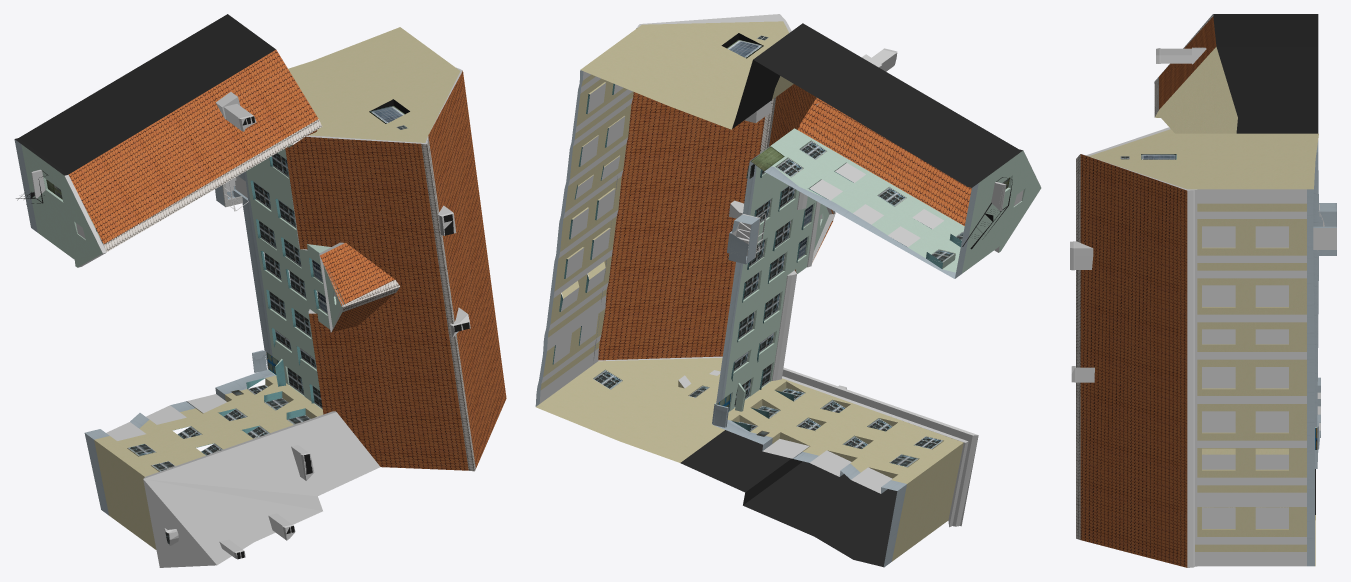
The model's file is Kiriku-4-origo.obj.
The picture shows the model from 3 angles, left to right: view 1: azimuth 30°, elevation 25°; view 2: azimuth 150°, elevation 25°; view 3: azimuth 270°, elevation 25°; orthographic projection. The views are drawn at different scales.
Parts seen in each view (by area): view 1: Kiriku_4; view 2: Kiriku_4; view 3: Kiriku_4.
Part boxes in pixels (x1=…): Kiriku_4: x1=14, y1=14, x2=506, y2=567; Kiriku_4: x1=535, y1=14, x2=1041, y2=567; Kiriku_4: x1=1070, y1=14, x2=1336, y2=567.
Size of the model in its own units: 34.5 by 35.5 by 17.37.
